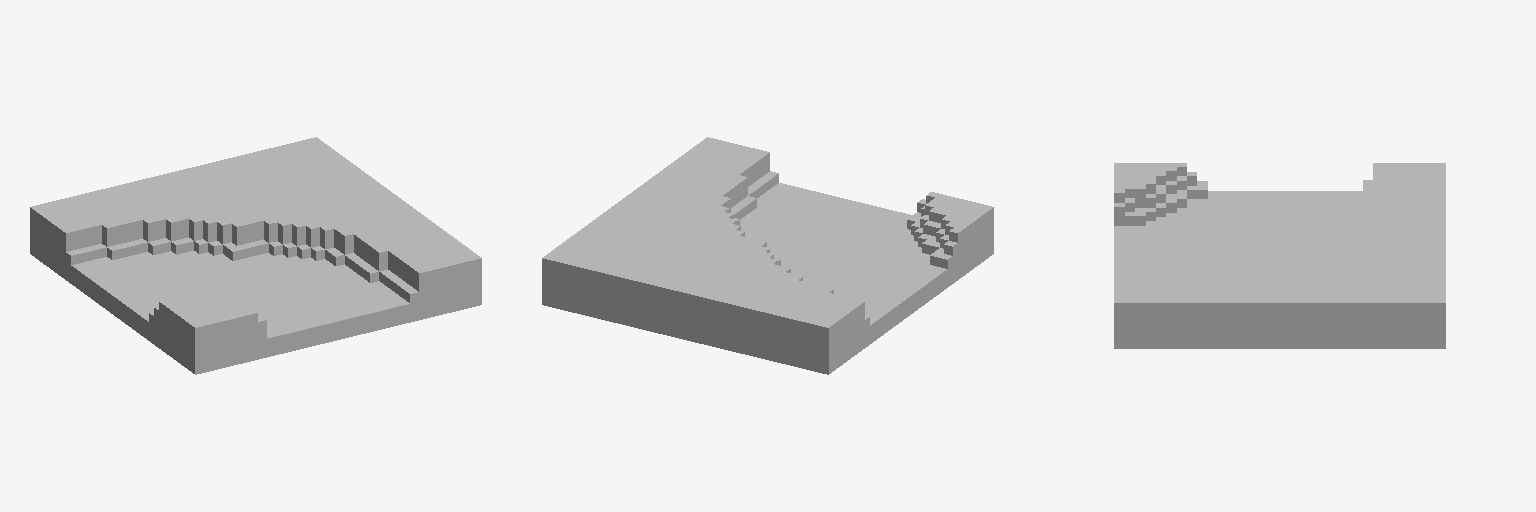
Rendered from Plaines Map-33.obj.
The picture shows the model from 3 angles: view 1: azimuth 30°, elevation 25°; view 2: azimuth 150°, elevation 25°; view 3: azimuth 270°, elevation 25°; orthographic projection.
Parts seen in each view (by area): view 1: object 1; view 2: object 1; view 3: object 1.
Boxes of the visible parts, x1,y1,x2,y2 form: object 1: [30, 137, 481, 374]; object 1: [542, 137, 993, 374]; object 1: [1114, 163, 1445, 348].
Size of the model in its own units: 3.2 by 0.5 by 3.2.